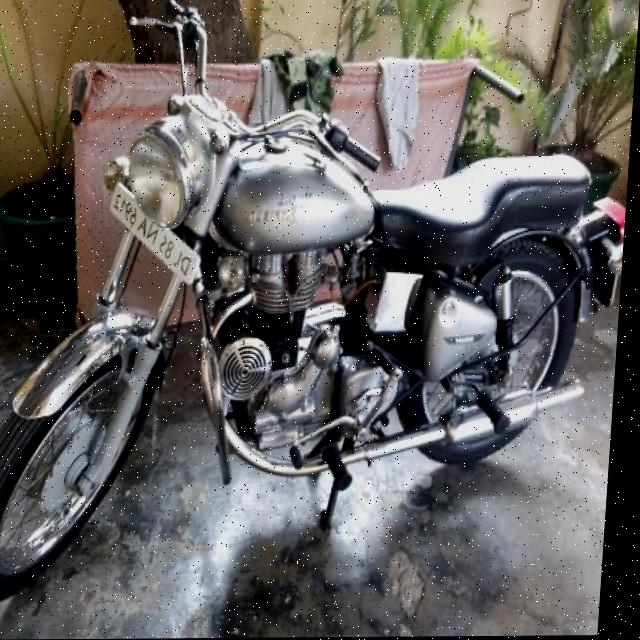plate: (108, 180, 207, 286)
